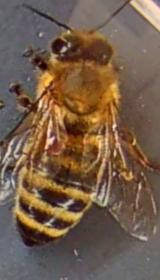varroa_mite: (41, 118, 77, 164)
